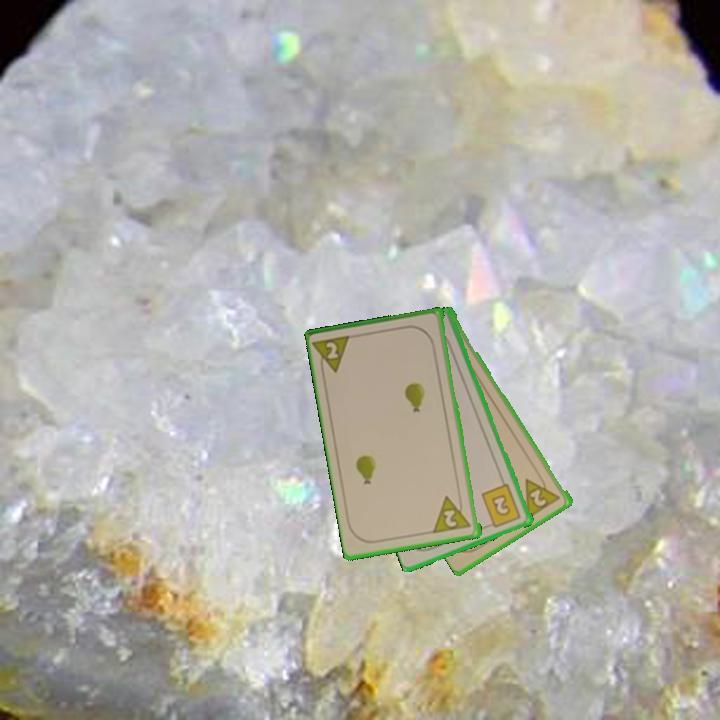2b: (478, 481, 524, 531)
2p: (521, 469, 564, 521), (431, 491, 474, 536), (323, 338, 342, 362)
